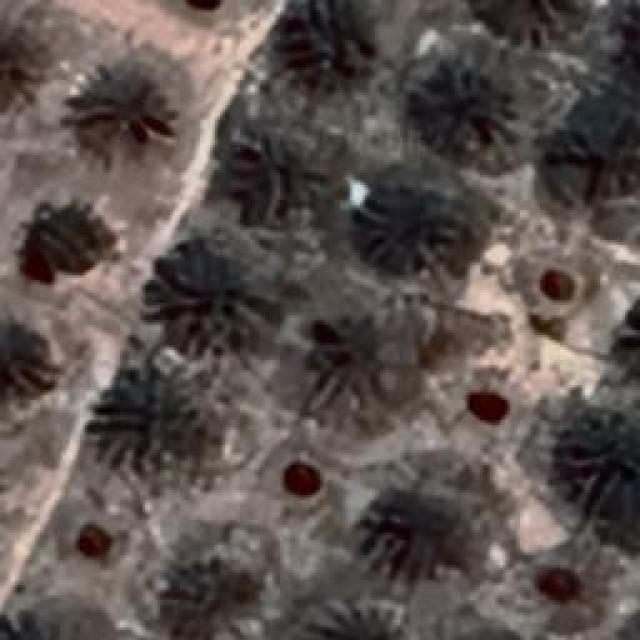PalmTree: (88, 368, 212, 488), (148, 252, 282, 352), (152, 551, 266, 640), (11, 178, 101, 288), (420, 60, 518, 160), (545, 96, 640, 199), (212, 130, 330, 212), (72, 55, 177, 140), (369, 491, 469, 579), (358, 192, 458, 270), (464, 0, 596, 58), (276, 0, 362, 85), (560, 407, 638, 495), (311, 312, 389, 398), (0, 311, 55, 404), (0, 23, 51, 117), (302, 602, 408, 636), (607, 298, 640, 380), (0, 606, 64, 640)
